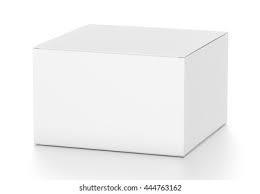box: (33, 23, 228, 158)
